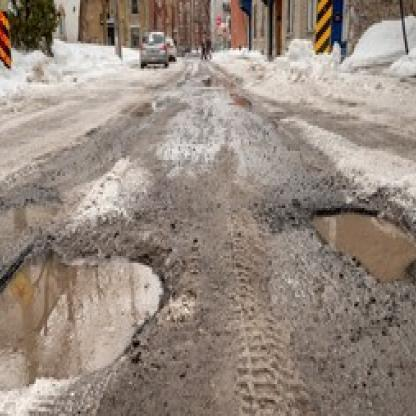pothole: (0, 236, 169, 393), (307, 206, 416, 286)
